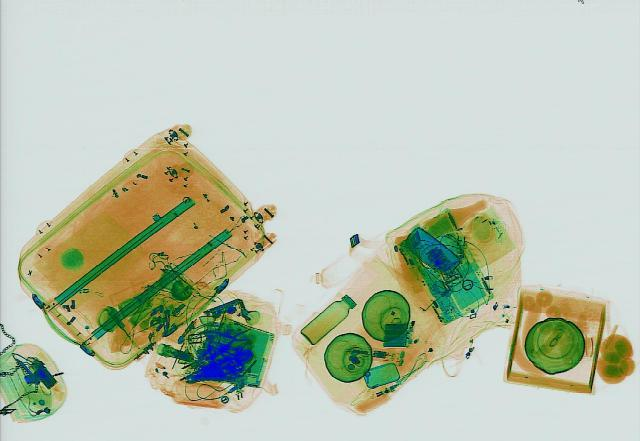Pliers: (188, 320, 260, 359)
